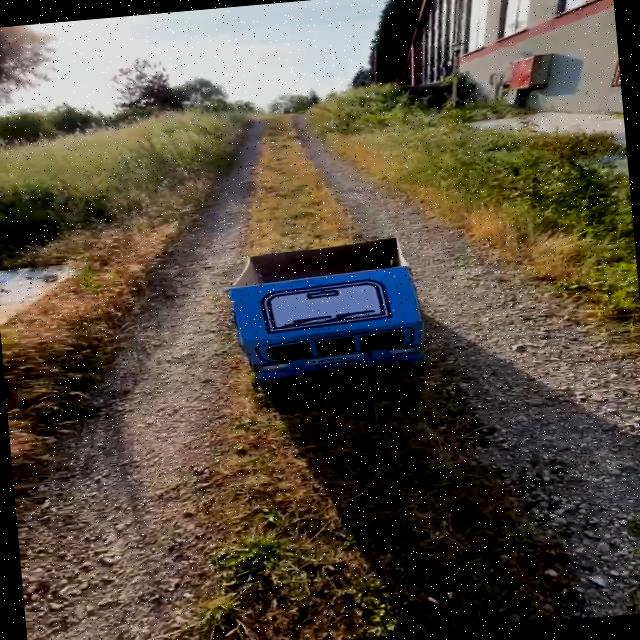blue_car: (186, 185, 497, 420)
